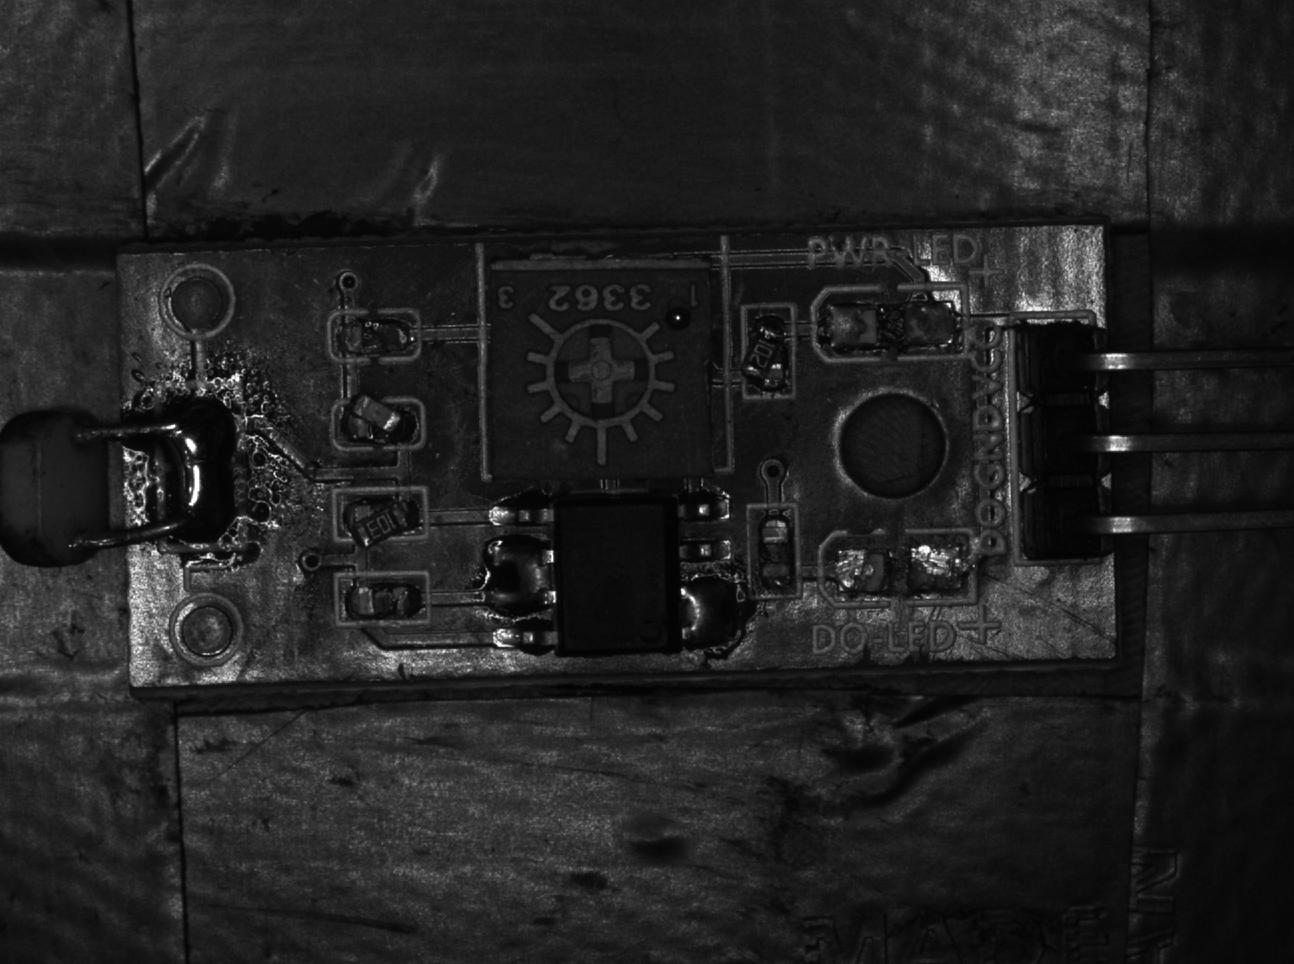bridge: (151, 394, 250, 555), (477, 535, 555, 616), (681, 575, 746, 659)
lifted: (738, 306, 798, 401), (333, 489, 427, 547), (331, 396, 425, 451)
miss: (334, 571, 428, 631), (329, 313, 424, 366), (745, 503, 795, 598)
